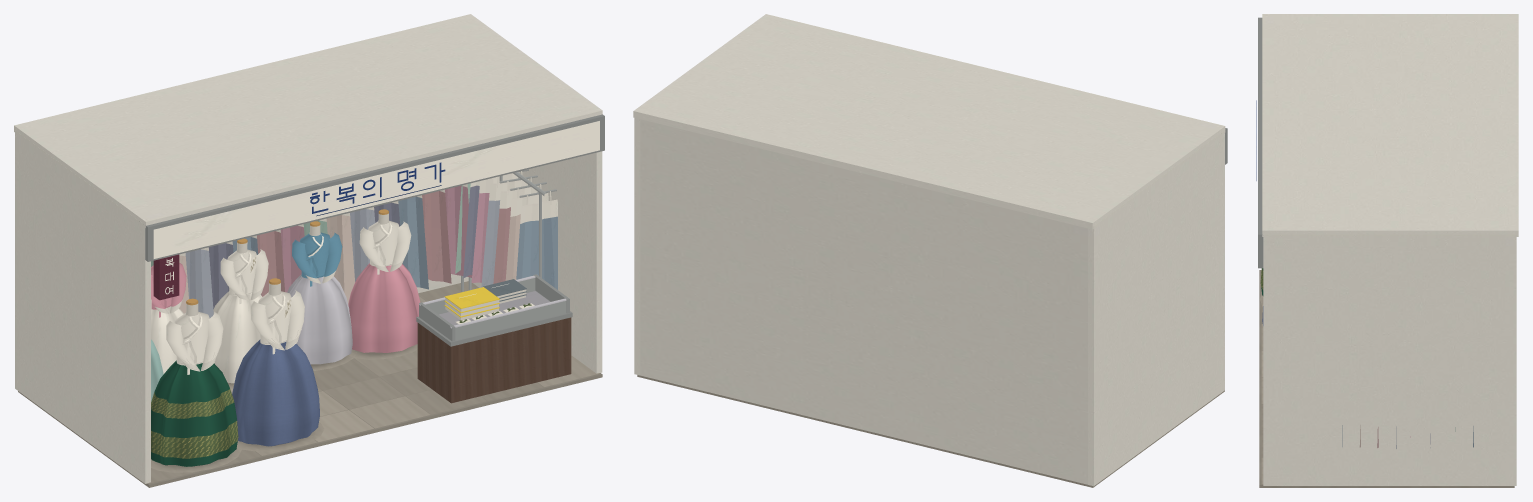
File: hanbok-showroom.glb
3 views of the same model, side by side, from view 1: azimuth 30°, elevation 25°; view 2: azimuth 150°, elevation 25°; view 3: azimuth 270°, elevation 25° (orthographic). The views are drawn at different scales.
Visible parts, largest first — view 1: HanbokShowroom; view 2: HanbokShowroom; view 3: HanbokShowroom.
Part boxes in pixels (x1,y1,x2,y2): HanbokShowroom: (14, 14, 604, 487); HanbokShowroom: (633, 14, 1227, 487); HanbokShowroom: (1256, 14, 1518, 487).
Bounding box in the file's own units: 5.21 × 2.87 × 2.65.
1 material, 1 textured.
